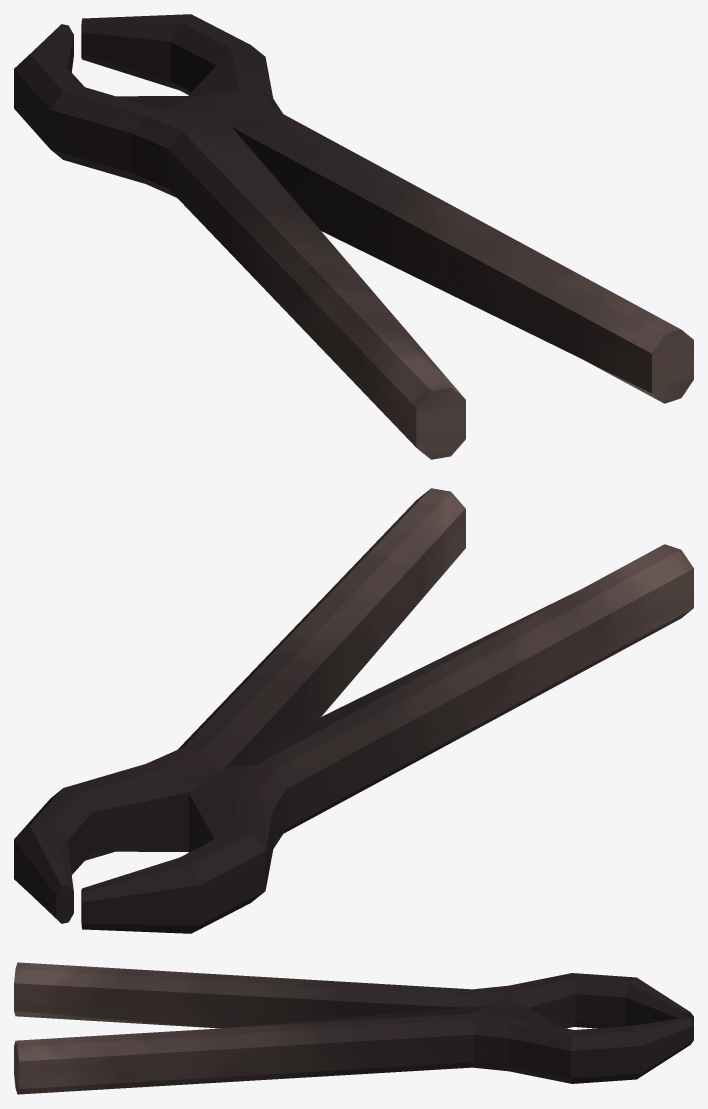
Rendered from smith_5.fbx.
3 views of the same model, one above another, from view 1: azimuth 30°, elevation 25°; view 2: azimuth 150°, elevation 25°; view 3: azimuth 270°, elevation 25° (orthographic). The views are drawn at different scales.
Visible parts, largest first — view 1: smith_5; view 2: smith_5; view 3: smith_5.
Boxes of the visible parts, box(x1,y1,x2,y2) form: smith_5: box(14, 14, 693, 459); smith_5: box(14, 488, 693, 933); smith_5: box(14, 962, 693, 1094).
Size of the model in its own units: 0.3793 by 0.0904 by 1.16.
